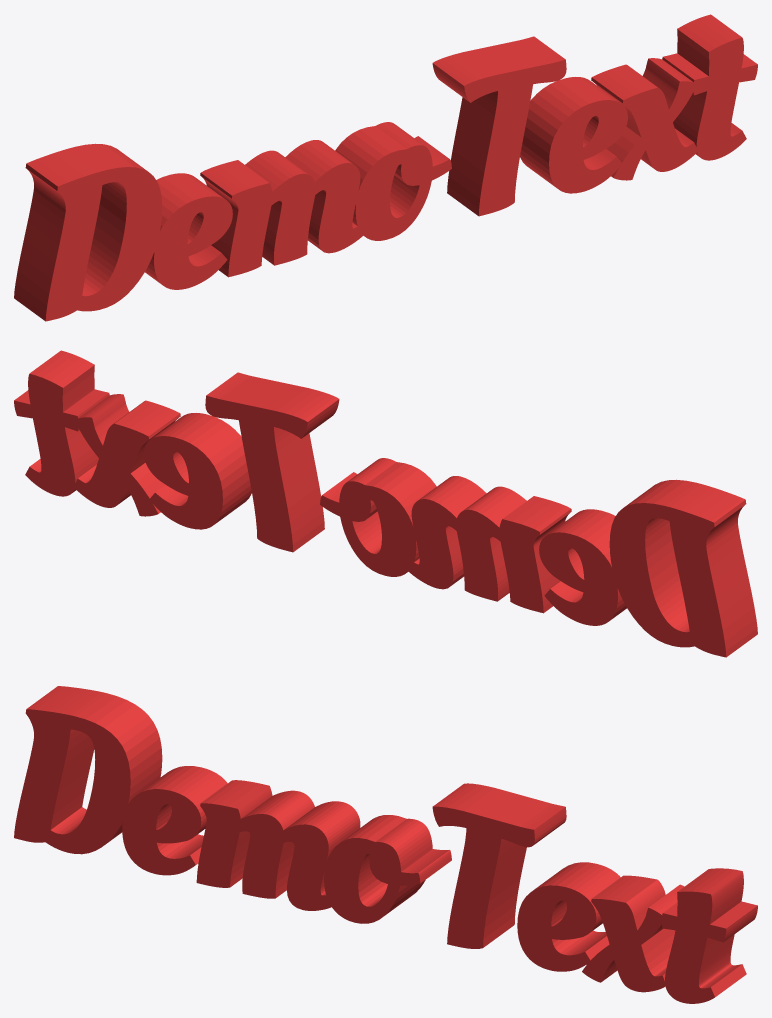
Rendered from demo-text.glb.
The picture shows the model from 3 angles, top to bottom: view 1: azimuth 30°, elevation 25°; view 2: azimuth 150°, elevation 25°; view 3: azimuth 330°, elevation 25°; orthographic projection.
Parts seen in each view (by area): view 1: 3D Text - D, 3D Text - e (×2), 3D Text - m, 3D Text - T, 3D Text - o, 3D Text - t, 3D Text - x; view 2: 3D Text - D, 3D Text - e (×2), 3D Text - m, 3D Text - T, 3D Text - o, 3D Text - t, 3D Text - x; view 3: 3D Text - D, 3D Text - e (×2), 3D Text - m, 3D Text - T, 3D Text - o, 3D Text - t, 3D Text - x.
Boxes of the visible parts, <box> form: 3D Text - D: <box>14,143,162,321</box>; 3D Text - e (×2): <box>145,77,627,289</box>; 3D Text - m: <box>200,140,364,277</box>; 3D Text - T: <box>432,36,566,216</box>; 3D Text - o: <box>335,122,451,240</box>; 3D Text - t: <box>662,14,757,160</box>; 3D Text - x: <box>591,58,697,180</box>; 3D Text - D: <box>609,479,757,657</box>; 3D Text - e (×2): <box>144,413,626,625</box>; 3D Text - m: <box>407,476,571,613</box>; 3D Text - T: <box>205,372,339,552</box>; 3D Text - o: <box>320,458,436,576</box>; 3D Text - t: <box>14,350,109,496</box>; 3D Text - x: <box>74,394,180,516</box>; 3D Text - D: <box>14,686,162,854</box>; 3D Text - e (×2): <box>122,766,620,971</box>; 3D Text - m: <box>196,780,360,910</box>; 3D Text - T: <box>432,783,566,948</box>; 3D Text - o: <box>324,815,451,923</box>; 3D Text - t: <box>661,868,757,1003</box>; 3D Text - x: <box>582,875,684,992</box>.
Bounding box in the file's own units: 0.0401 × 0.00744 × 0.00309.
